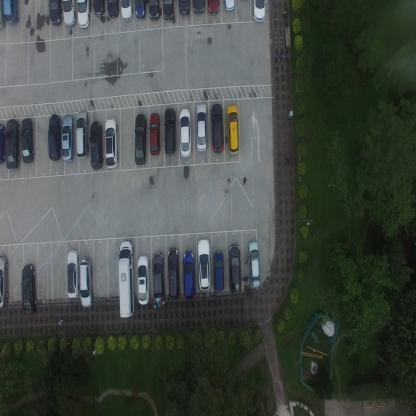car: (118, 240, 135, 318), (21, 263, 37, 317), (196, 239, 212, 291), (78, 257, 94, 309), (5, 117, 20, 171), (136, 254, 151, 304), (226, 103, 240, 156), (104, 117, 118, 170), (152, 252, 166, 305), (89, 119, 103, 171), (210, 103, 224, 154), (178, 107, 192, 158), (66, 249, 80, 300), (134, 112, 147, 166), (167, 247, 180, 300), (75, 110, 89, 159), (195, 102, 208, 154), (228, 244, 241, 296), (48, 113, 62, 161), (163, 106, 176, 157), (247, 238, 260, 289), (182, 250, 195, 301), (61, 113, 74, 163), (21, 116, 34, 164), (212, 249, 224, 292), (149, 112, 160, 158), (0, 254, 9, 310), (3, 0, 19, 27), (61, 0, 77, 27), (76, 0, 90, 30), (48, 0, 62, 27), (252, 0, 266, 23), (120, 0, 133, 23), (0, 122, 7, 164), (147, 0, 160, 22), (106, 0, 120, 19), (162, 0, 174, 22), (92, 0, 106, 18), (134, 0, 146, 20), (206, 0, 220, 16), (192, 0, 206, 15), (178, 0, 190, 17), (0, 0, 6, 30), (224, 0, 235, 13)
